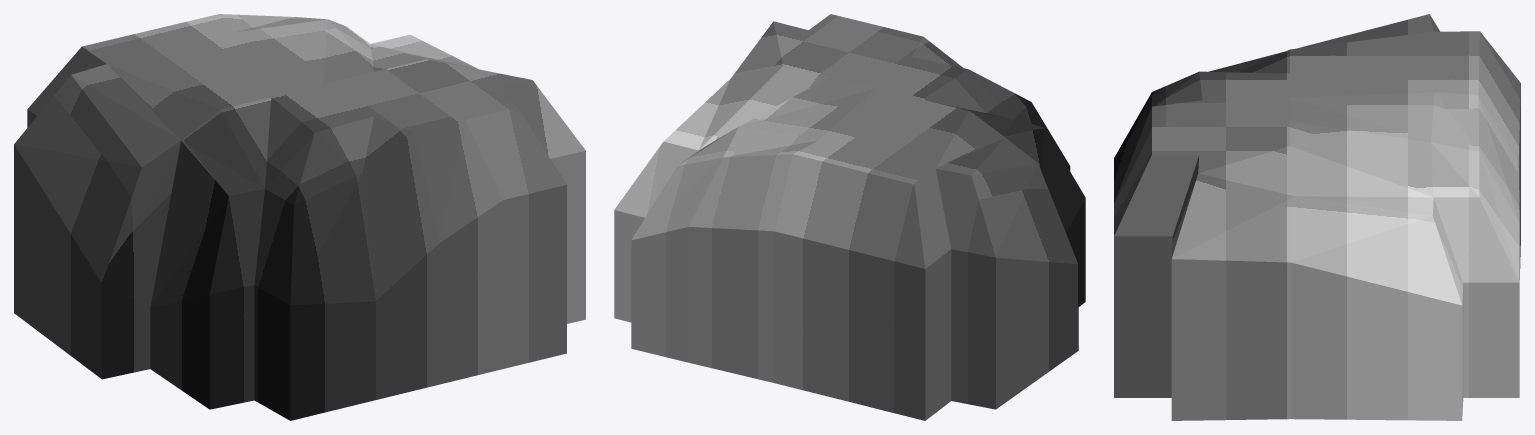
Rendered from rock_331x05.gltf.
3 renders of one model, left to right at view 1: azimuth 30°, elevation 25°; view 2: azimuth 150°, elevation 25°; view 3: azimuth 270°, elevation 25°, orthographic. The views are drawn at different scales.
Parts seen in each view (by area): view 1: Rock_331x5; view 2: Rock_331x5; view 3: Rock_331x5.
Boxes of the visible parts, x1=… form: Rock_331x5: x1=14, y1=14, x2=585, y2=420; Rock_331x5: x1=614, y1=14, x2=1085, y2=420; Rock_331x5: x1=1114, y1=14, x2=1520, y2=420.
Bounding box in the file's own units: 0.5492 × 0.2957 × 0.4757.
1 material, 1 textured.
